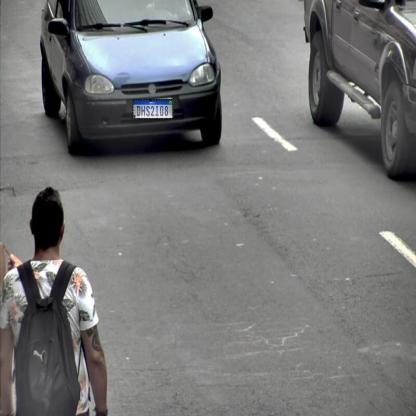PlacaM: (133, 99, 173, 119)
